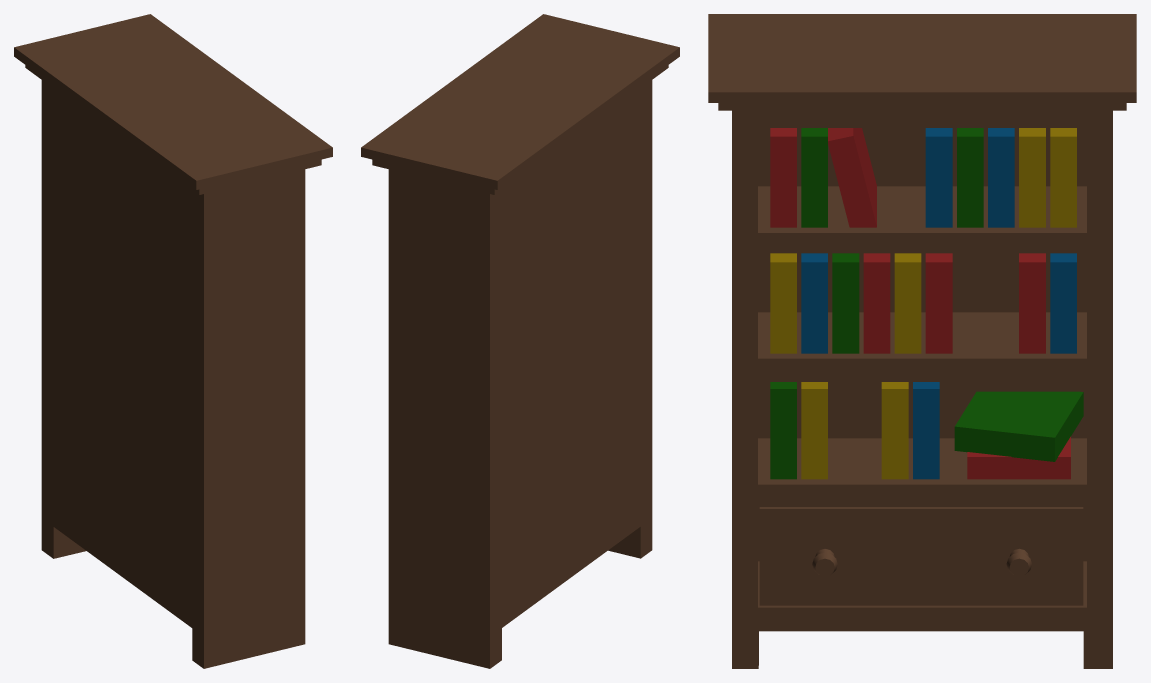
File: Bookcase3.fbx
3 renders of one model, left to right at view 1: azimuth 30°, elevation 25°; view 2: azimuth 150°, elevation 25°; view 3: azimuth 270°, elevation 25°, orthographic. The views are drawn at different scales.
Parts seen in each view (by area): view 1: Bookcase2; view 2: Bookcase2; view 3: Bookcase2.
Boxes of the visible parts, x1,y1,x2,y2 form: Bookcase2: (14,14,332,668); Bookcase2: (361,14,679,668); Bookcase2: (708,14,1136,668).
Size of the model in its own units: 1.78 by 6.24 by 4.13.
